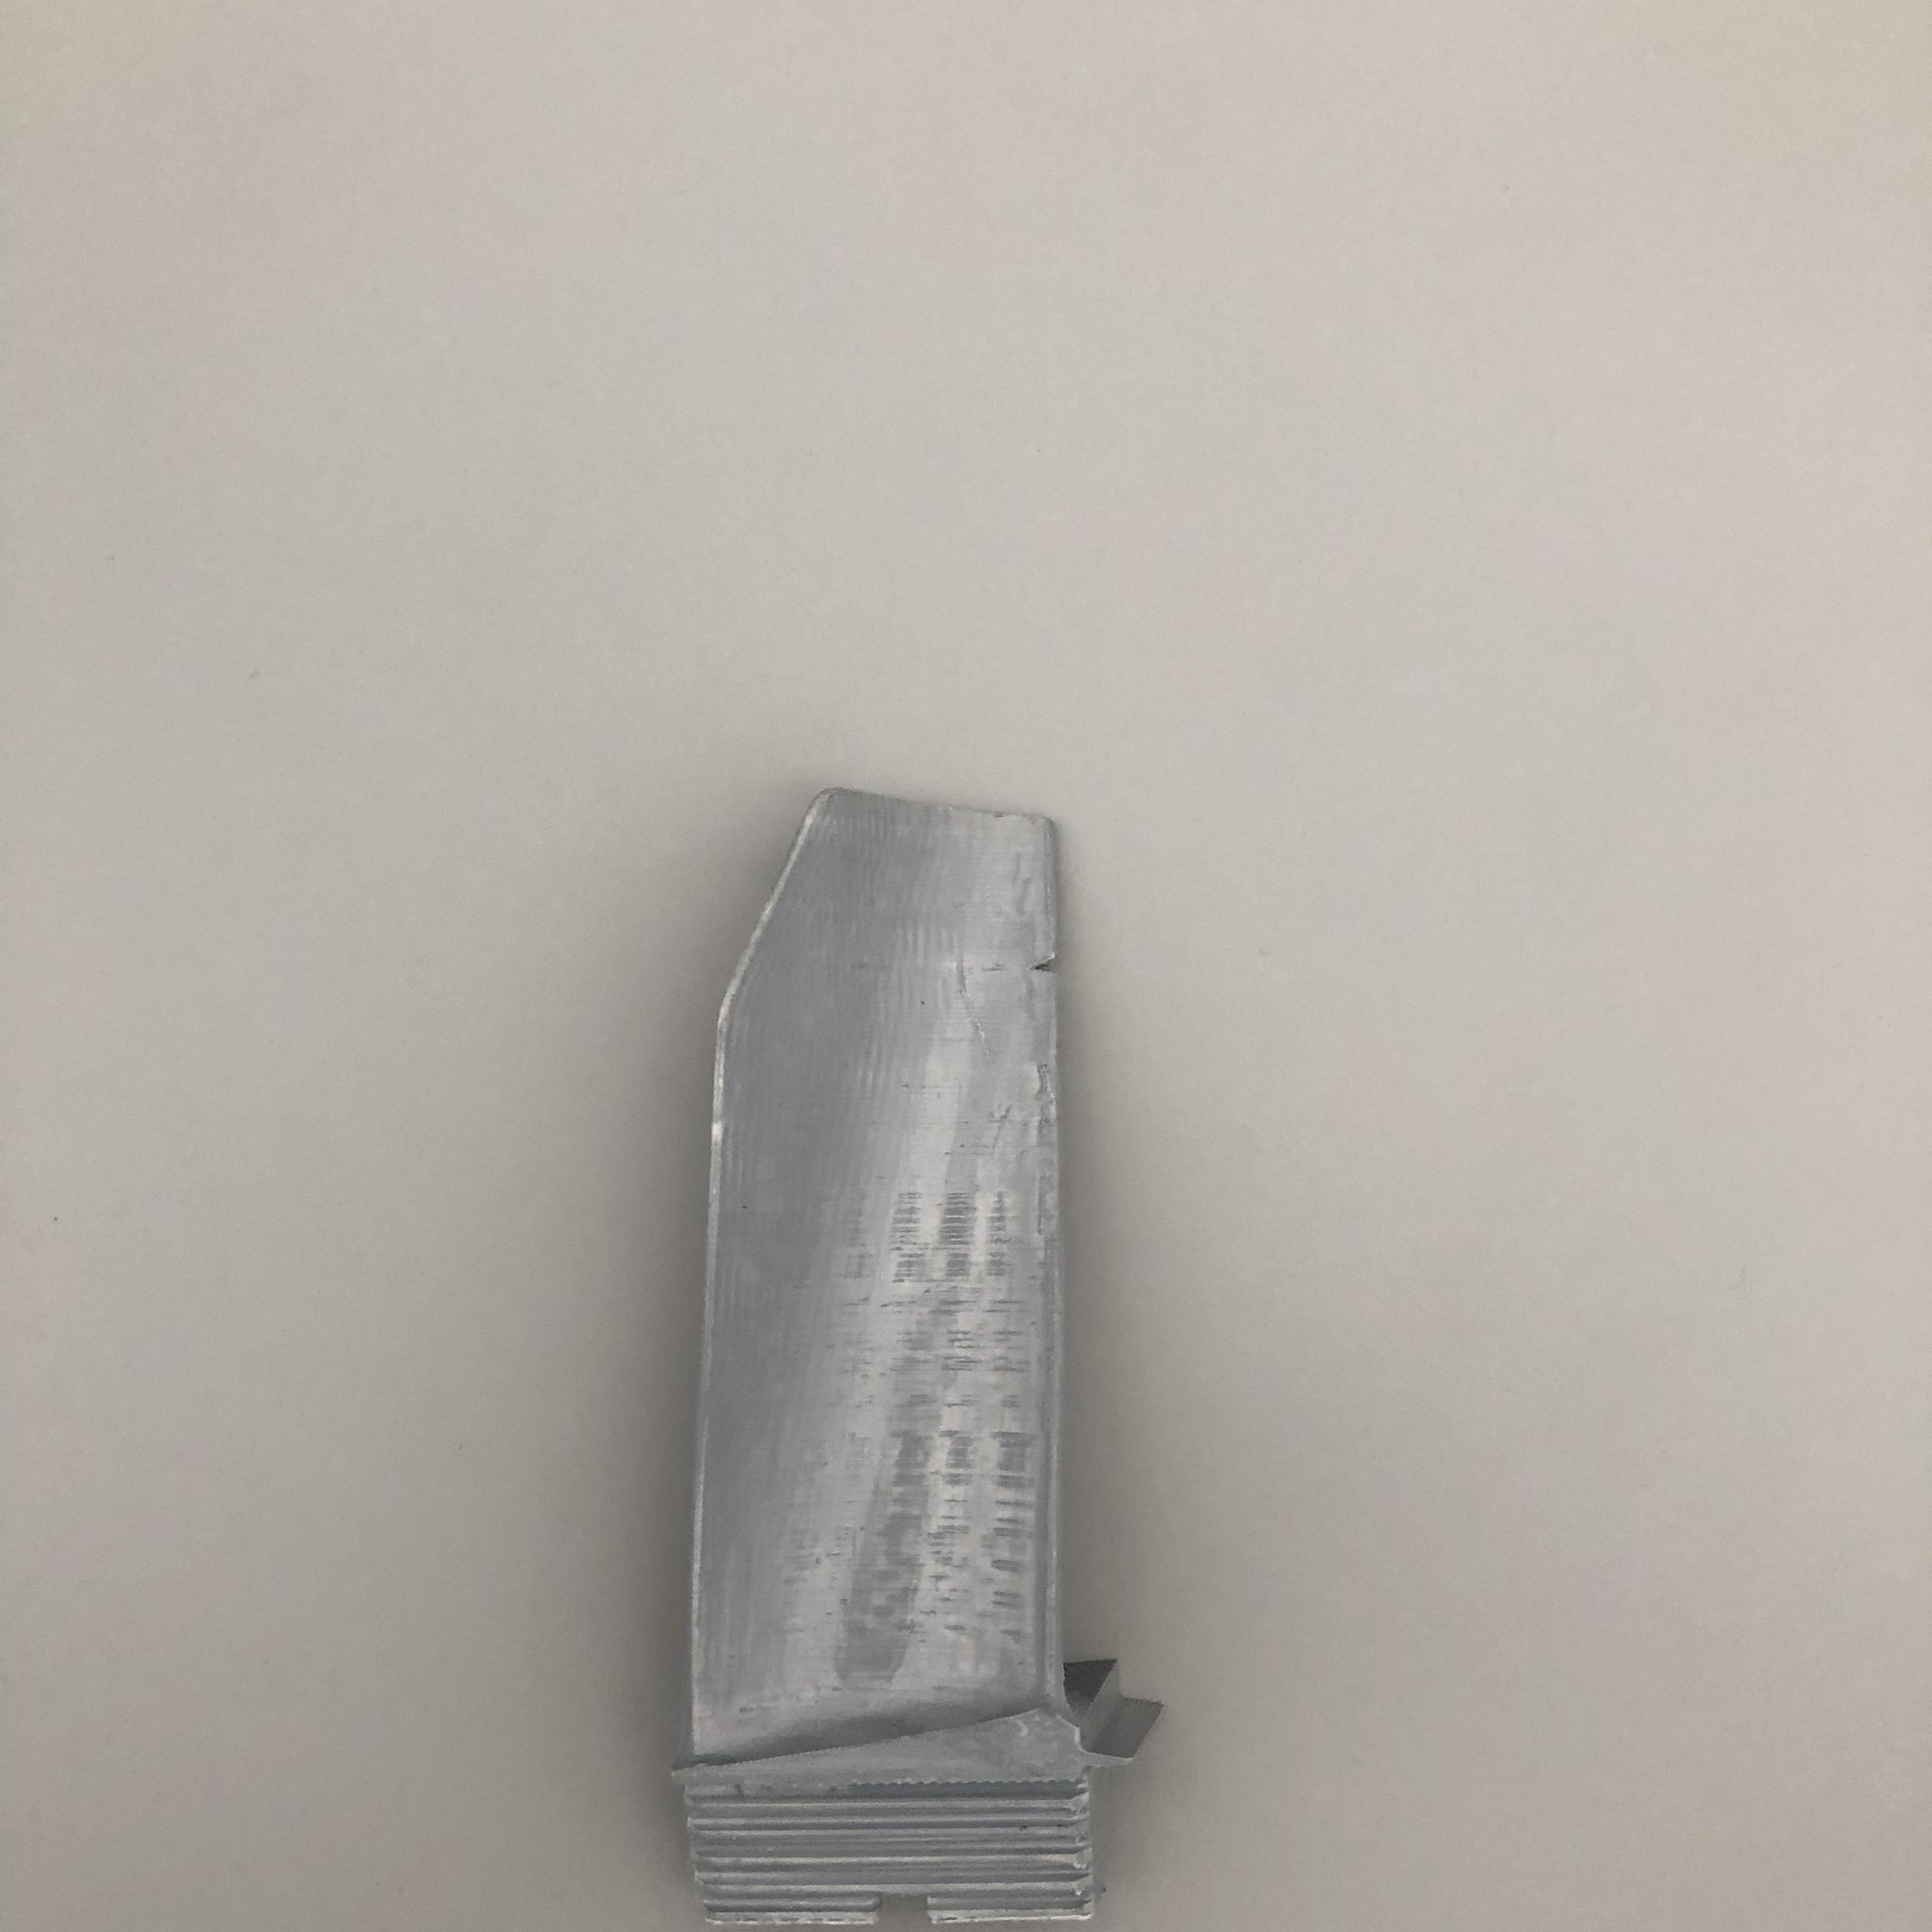groove: (1030, 955, 1056, 977)
